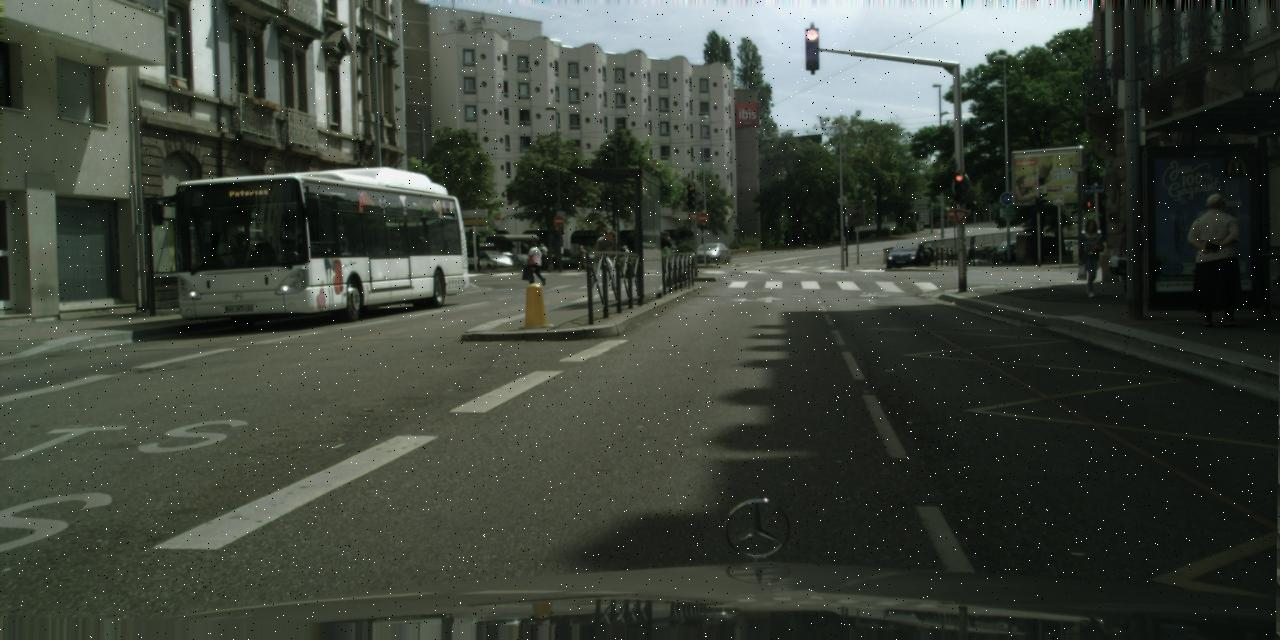ped: (1190, 194, 1246, 328), (1119, 205, 1156, 298), (1076, 219, 1106, 297), (594, 230, 620, 293), (526, 242, 544, 286), (662, 231, 676, 254), (576, 245, 587, 271), (538, 242, 548, 270), (673, 286, 678, 292), (666, 289, 670, 294)
